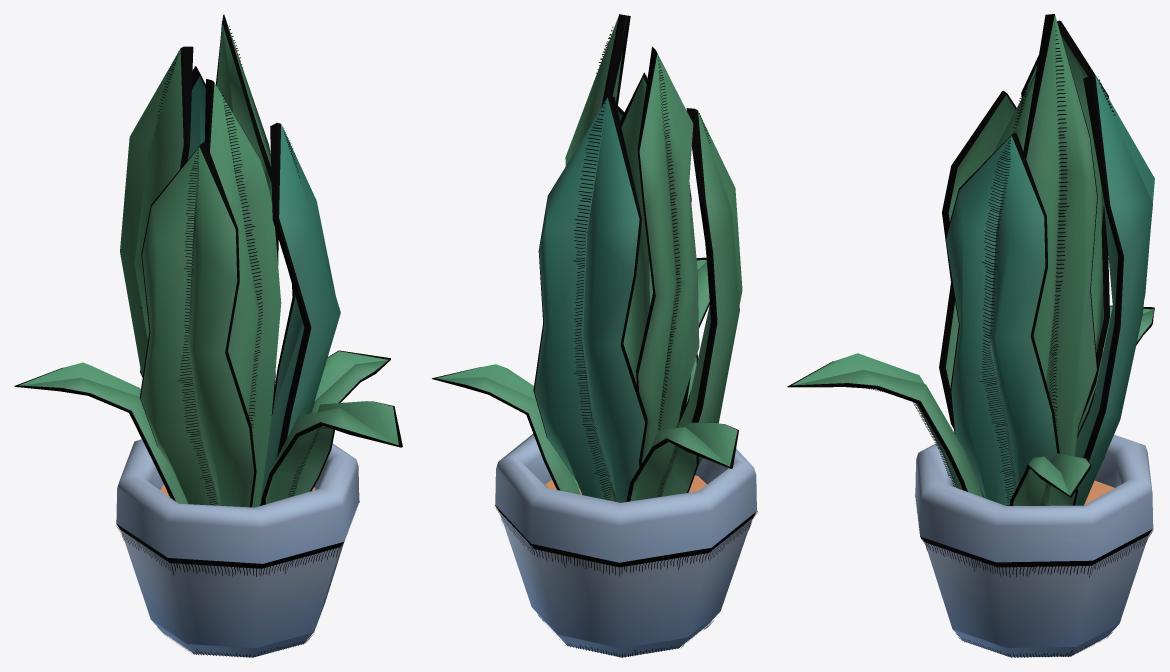
Rendered from flower-pot-small-01.glb.
3 views of the same model, side by side, from view 1: azimuth 30°, elevation 25°; view 2: azimuth 150°, elevation 25°; view 3: azimuth 270°, elevation 25° (orthographic). The views are drawn at different scales.
Visible parts, largest first — view 1: FlowerPot_Small_01; view 2: FlowerPot_Small_01; view 3: FlowerPot_Small_01.
Part boxes in pixels (x1,y1,x2,y2): FlowerPot_Small_01: (14, 14, 402, 657); FlowerPot_Small_01: (432, 14, 757, 657); FlowerPot_Small_01: (787, 14, 1154, 657).
Bounding box in the file's own units: 1.07 × 1.84 × 1.01.
Materials: 3 (3 with a texture image).
